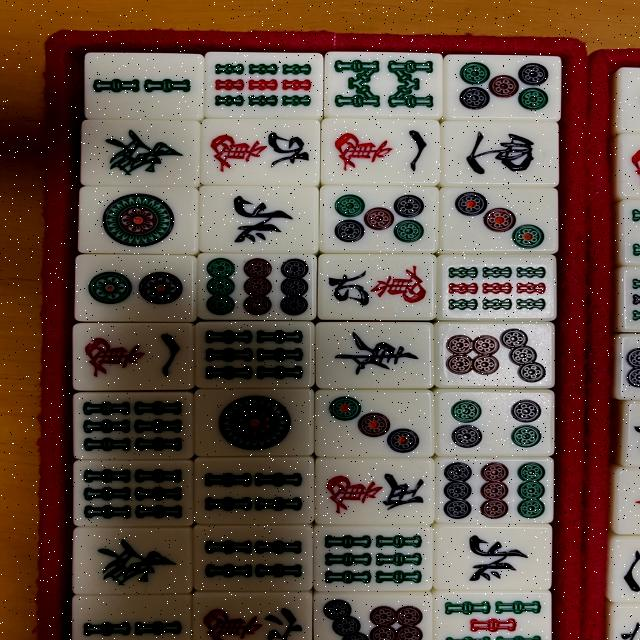bamboos_2: (84, 54, 203, 117)
bamboos_4: (194, 458, 312, 522), (193, 527, 312, 590)
bamboos_6: (314, 526, 432, 590), (74, 394, 193, 457), (195, 323, 313, 386), (74, 461, 192, 524)
bamboos_8: (323, 51, 442, 114)
bamboos_9: (436, 256, 556, 318), (204, 54, 322, 116)
characters_1: (323, 119, 442, 182), (73, 326, 192, 389)
characters_5: (315, 460, 434, 523)
characters_9: (318, 254, 437, 317), (201, 120, 320, 183)
circles_1: (197, 392, 315, 455), (78, 187, 196, 250)
circles_2: (76, 256, 194, 320)
circles_3: (440, 188, 558, 250), (316, 392, 434, 454)
circles_4: (436, 392, 554, 454)
circles_5: (443, 54, 561, 118), (321, 186, 439, 248)
circles_7: (435, 324, 554, 388)
circles_9: (434, 459, 554, 522), (198, 255, 316, 318)
east: (314, 324, 433, 387)
green: (81, 121, 199, 184), (74, 528, 192, 591)
north: (433, 526, 552, 588), (199, 186, 317, 248)
west: (441, 120, 559, 183)
